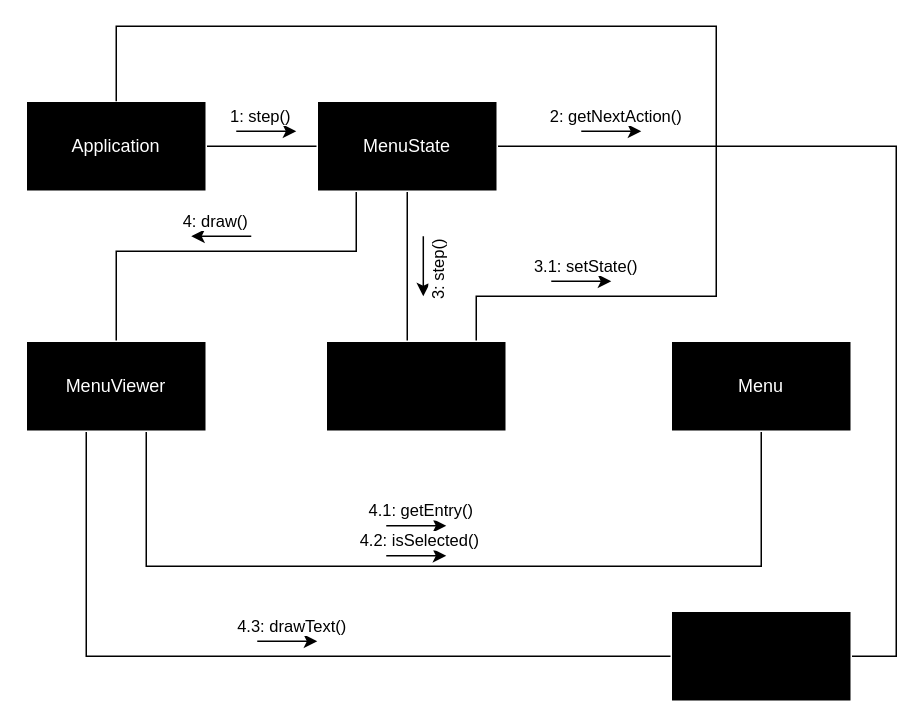
The diagram is 924 pixels wide and 728 high, and some of its shapes have lost their labels. The centre of each missing label's shape, as x and y in pixels:
LanternaGUI: the point at 760,655
MenuController: the point at 415,385
